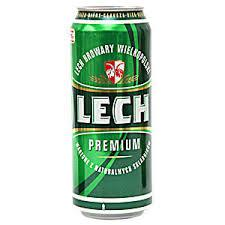beer: (68, 6, 155, 219)
